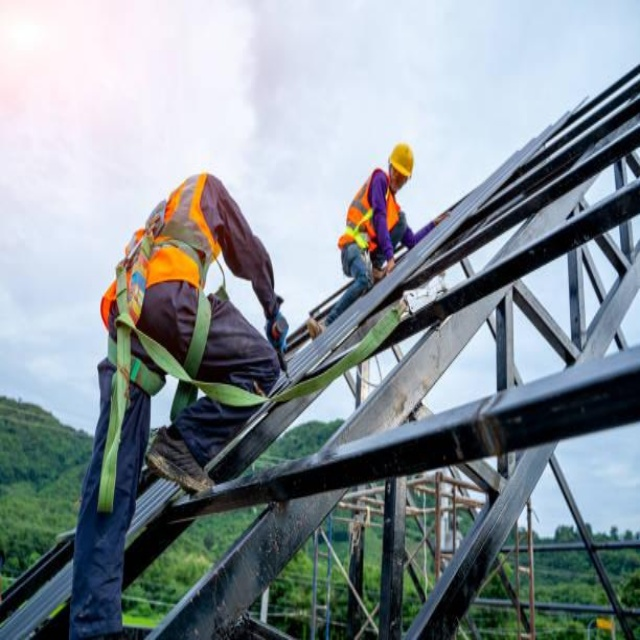Arnes_seguridad: (103, 170, 237, 529), (333, 165, 397, 276)
